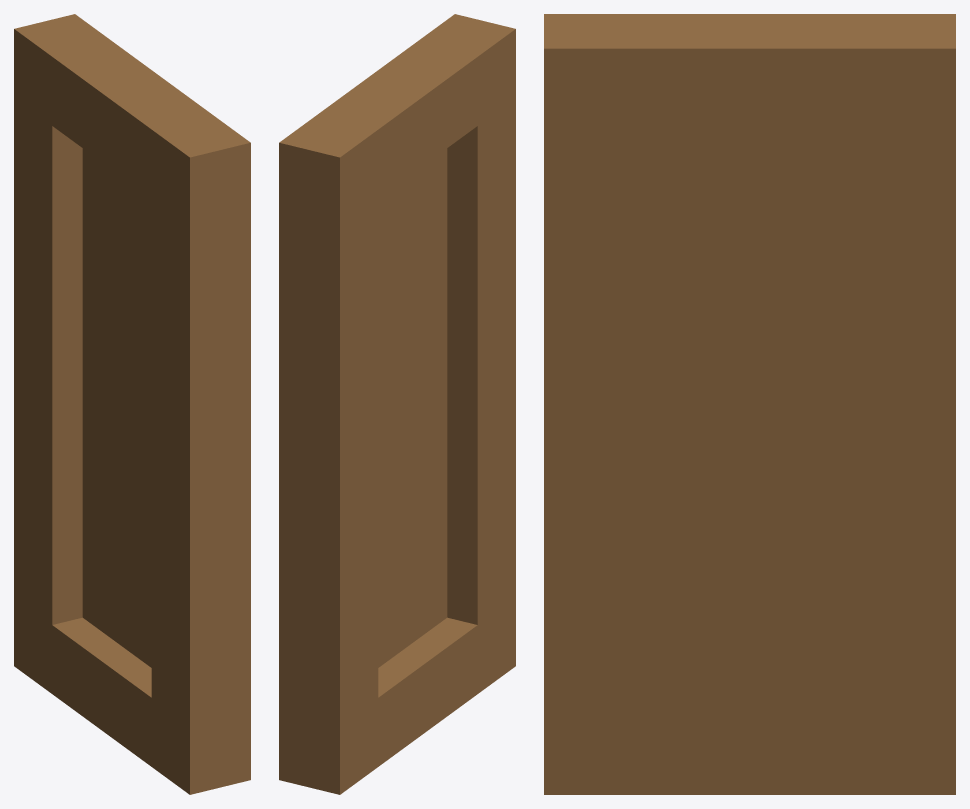
Rendered from modularbuildings_079.glb.
3 views of the same model, side by side, from view 1: azimuth 30°, elevation 25°; view 2: azimuth 150°, elevation 25°; view 3: azimuth 270°, elevation 25° (orthographic). The views are drawn at different scales.
Visible parts, largest first — view 1: Mesh1 Group1 Model; view 2: Mesh1 Group1 Model; view 3: Mesh1 Group1 Model.
Boxes of the visible parts, x1,y1,x2,y2 form: Mesh1 Group1 Model: [14, 14, 250, 794]; Mesh1 Group1 Model: [279, 14, 515, 794]; Mesh1 Group1 Model: [544, 14, 955, 794].
Size of the model in its own units: 0.05 by 0.5 by 0.25.
